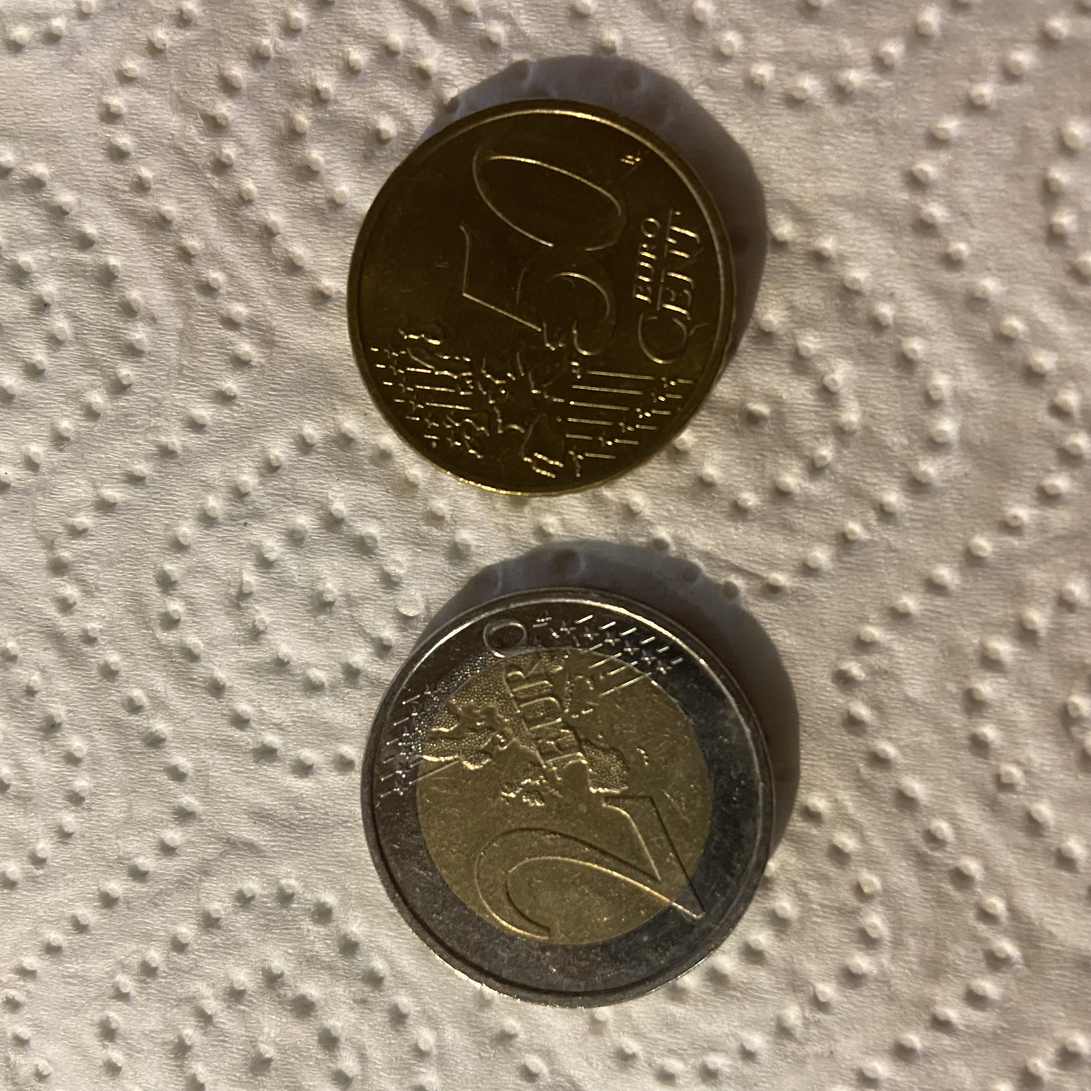2 euro: (336, 584, 785, 1016)
50 cent: (332, 97, 756, 510)
